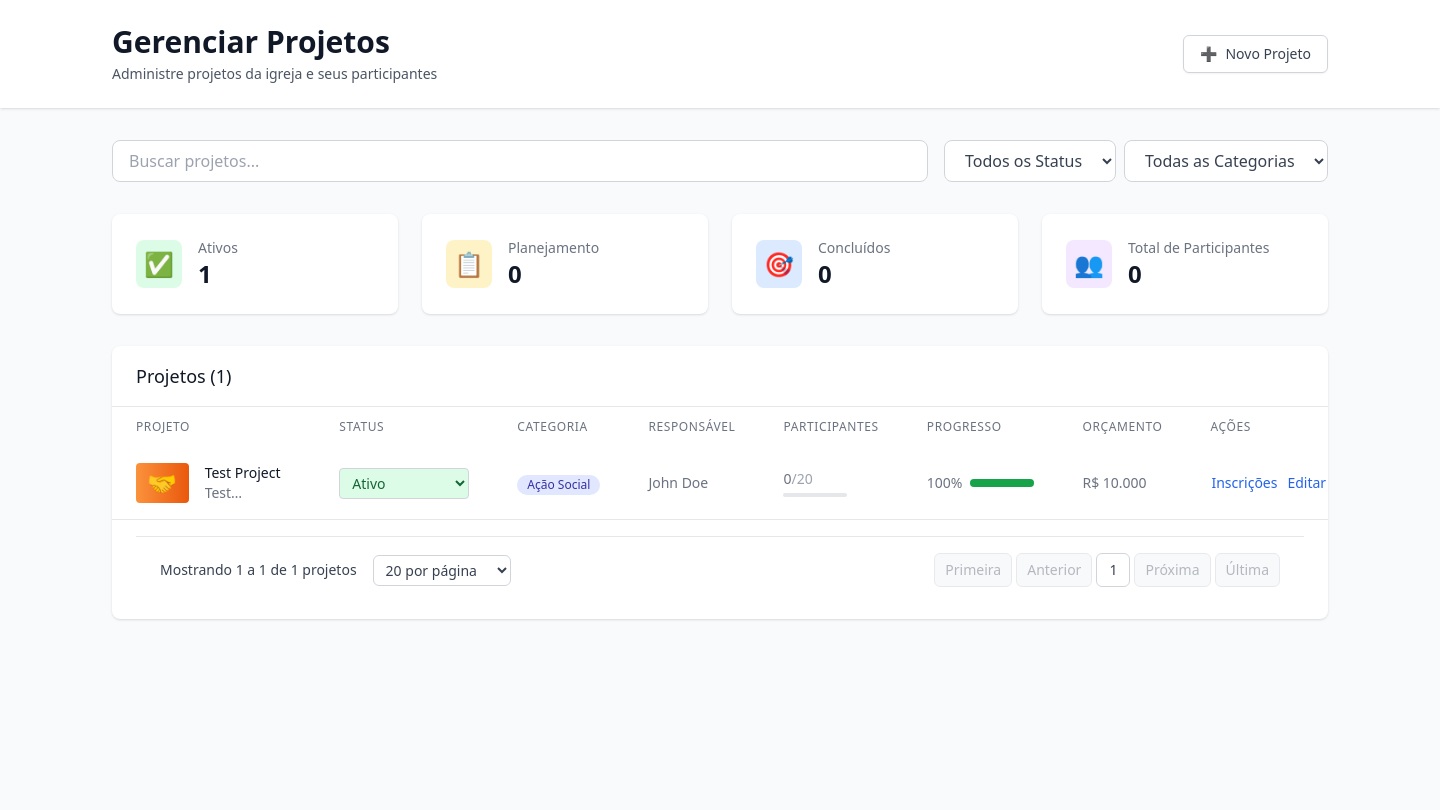
Scenario: AdminProjectsManagementPage › Empty State › should show no results message when filters return no matches
The width and height of the screenshot is (1440, 810).
Expected: the text "Test Project" is shown, x1=205 y1=463 x2=291 y2=483
// Change status filter to cancelled
Select "Cancelado" in the 1st dropdown at (1030, 161), box x1=944 y1=140 x2=1116 y2=182
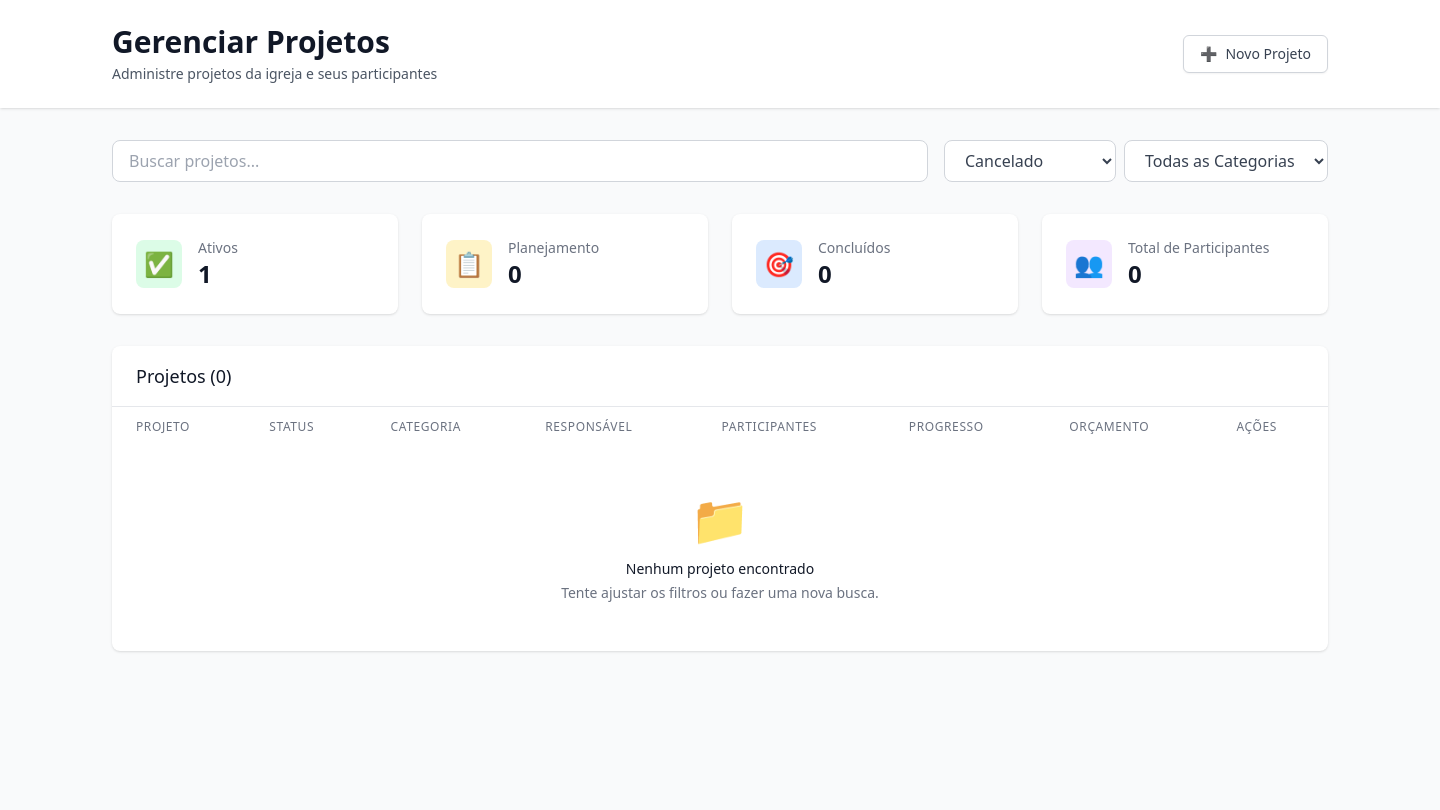
Expected: the heading "Nenhum projeto encontrado" is shown, x1=626 y1=559 x2=814 y2=578
